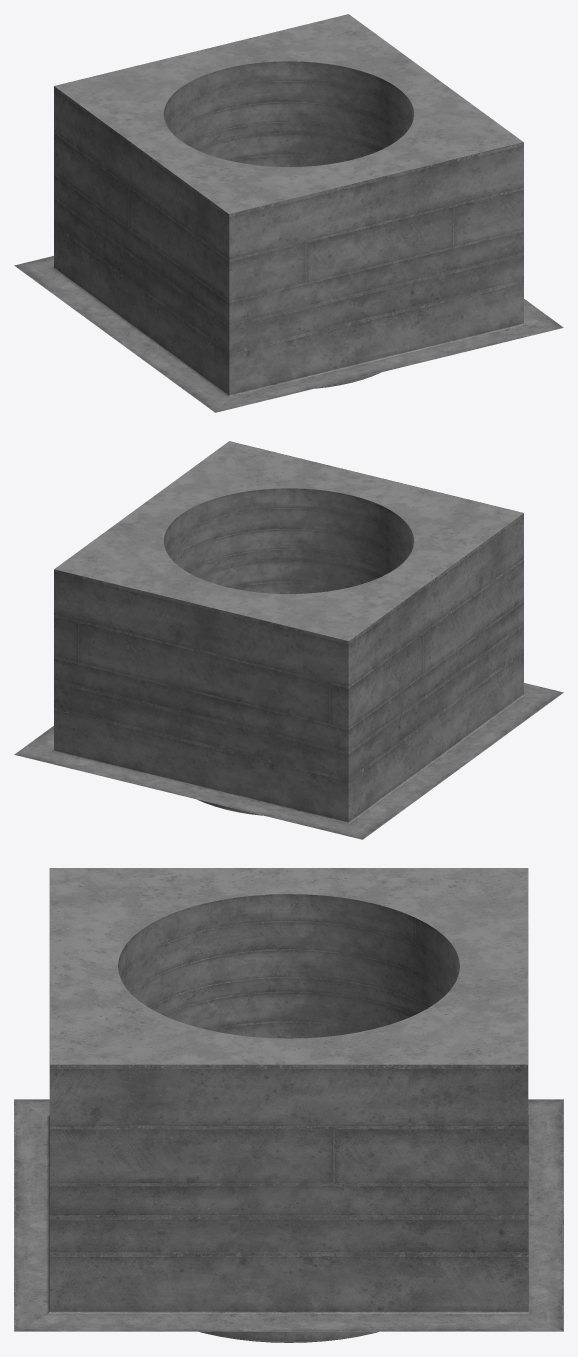
Rendered from SM_Ceiling_23.fbx.
3 renders of one model, top to bottom at view 1: azimuth 30°, elevation 25°; view 2: azimuth 150°, elevation 25°; view 3: azimuth 270°, elevation 25°, orthographic. The views are drawn at different scales.
Visible parts, largest first — view 1: SM_Ceiling_23; view 2: SM_Ceiling_23; view 3: SM_Ceiling_23.
Part boxes in pixels (x1,y1,x2,y2): SM_Ceiling_23: (14, 14, 563, 412); SM_Ceiling_23: (14, 441, 563, 839); SM_Ceiling_23: (14, 868, 563, 1342).
Size of the model in its own units: 400 by 245 by 400.
